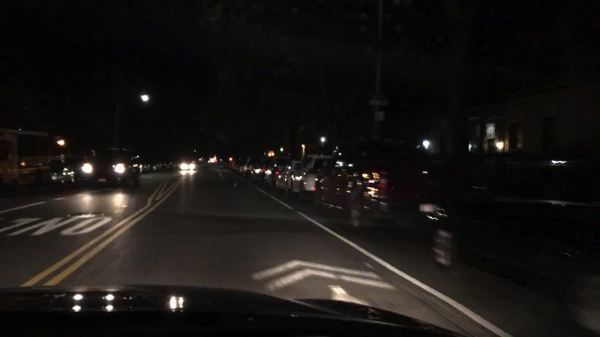bus: (0, 128, 69, 189)
car: (426, 152, 599, 272), (314, 140, 428, 230), (78, 147, 140, 188), (289, 154, 332, 200), (274, 159, 301, 202), (263, 155, 290, 188), (51, 165, 77, 186), (250, 156, 269, 184), (244, 154, 257, 176), (179, 160, 196, 173), (235, 157, 243, 176), (141, 162, 153, 173), (228, 157, 237, 170), (151, 163, 161, 173), (207, 156, 217, 163), (161, 161, 167, 172), (166, 161, 172, 170), (174, 162, 180, 171)
traffic light: (193, 148, 197, 153)
traffic sign: (369, 98, 388, 106), (373, 112, 384, 122)
